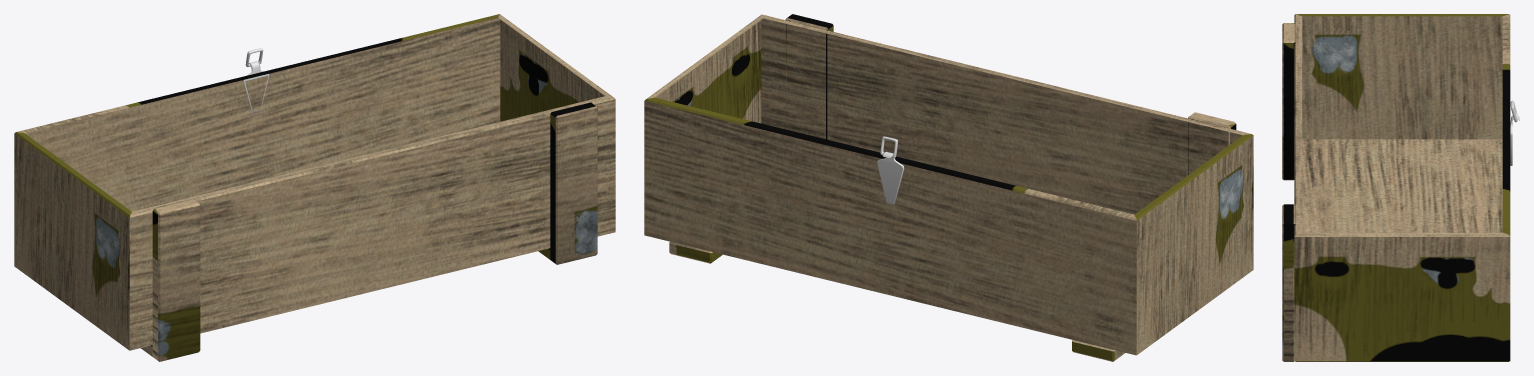
Rendered from skrzynia 2.fbx.
The picture shows the model from 3 angles, left to right: view 1: azimuth 30°, elevation 25°; view 2: azimuth 150°, elevation 25°; view 3: azimuth 270°, elevation 25°; orthographic projection. The views are drawn at different scales.
Parts seen in each view (by area): view 1: Crate0; view 2: Crate0; view 3: Crate0.
Part boxes in pixels (<box>): Crate0: <box>14,14,615,361</box>; Crate0: <box>644,14,1253,361</box>; Crate0: <box>1282,14,1519,361</box>.
Size of what is drawn, in the model's own units: 150 by 50.07 by 67.86.
